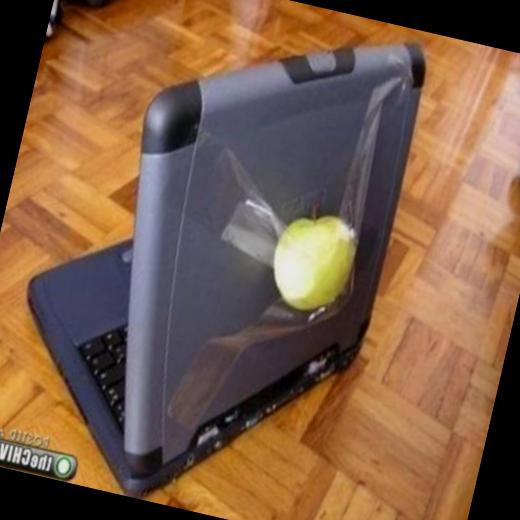Apple: (252, 205, 358, 334)
